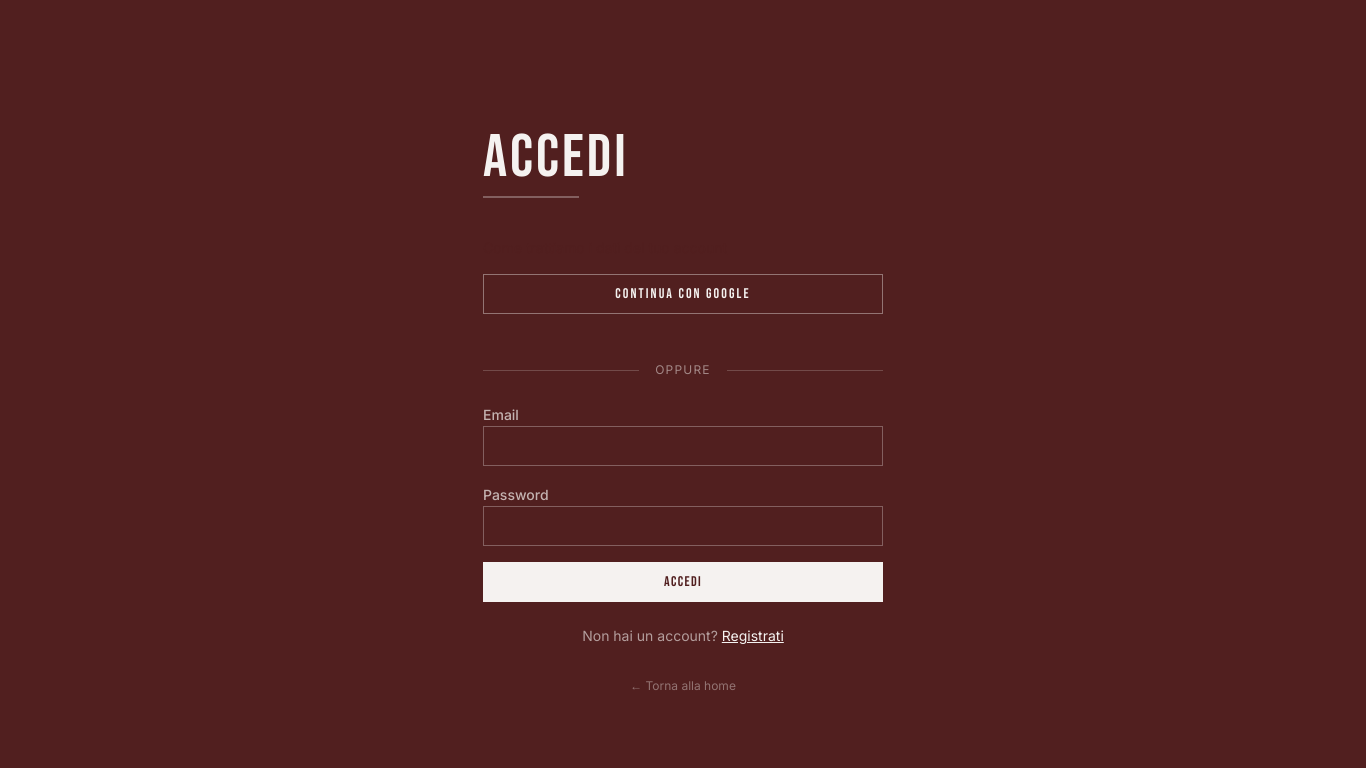
authentication UI with a simulated service › locks the form and mode toggle while a request is pending
This screenshot has width=1366, height=768.
Later steps or results of the test are not shown.
In the field labelled "Email": (683, 446) [483,426,883,466], type "test@example.invalid"
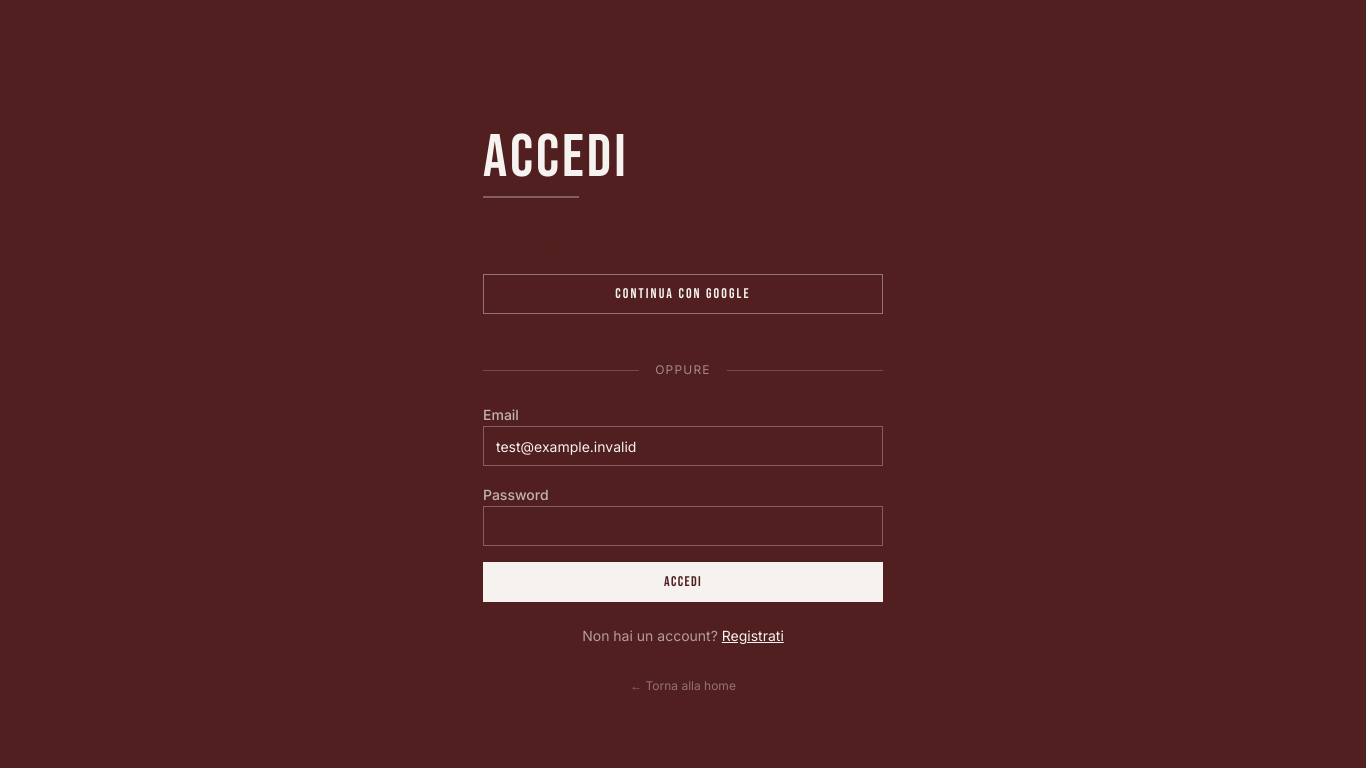
In the password field labelled "Password": (683, 526) [483,506,883,546], type "synthetic-password"
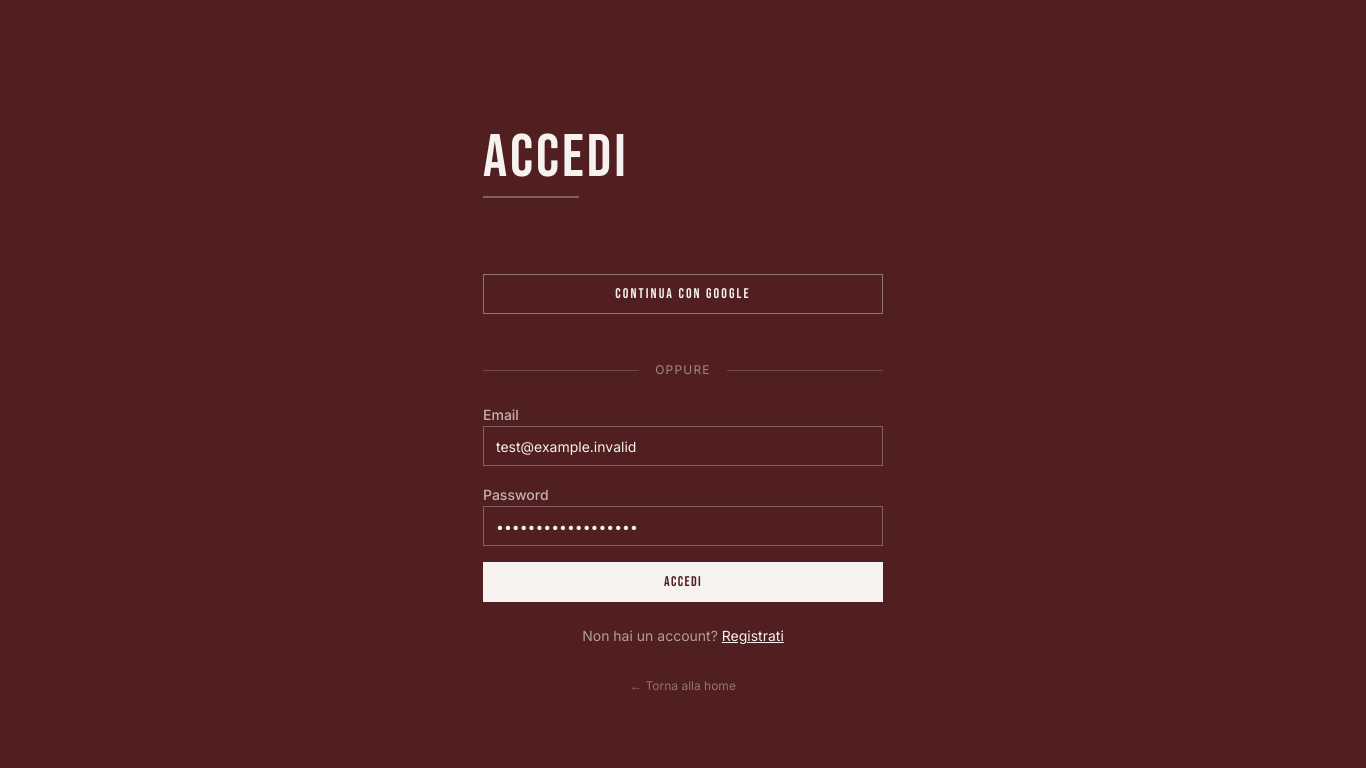
Submit the form "ACCEDI", box [483,402,883,602]
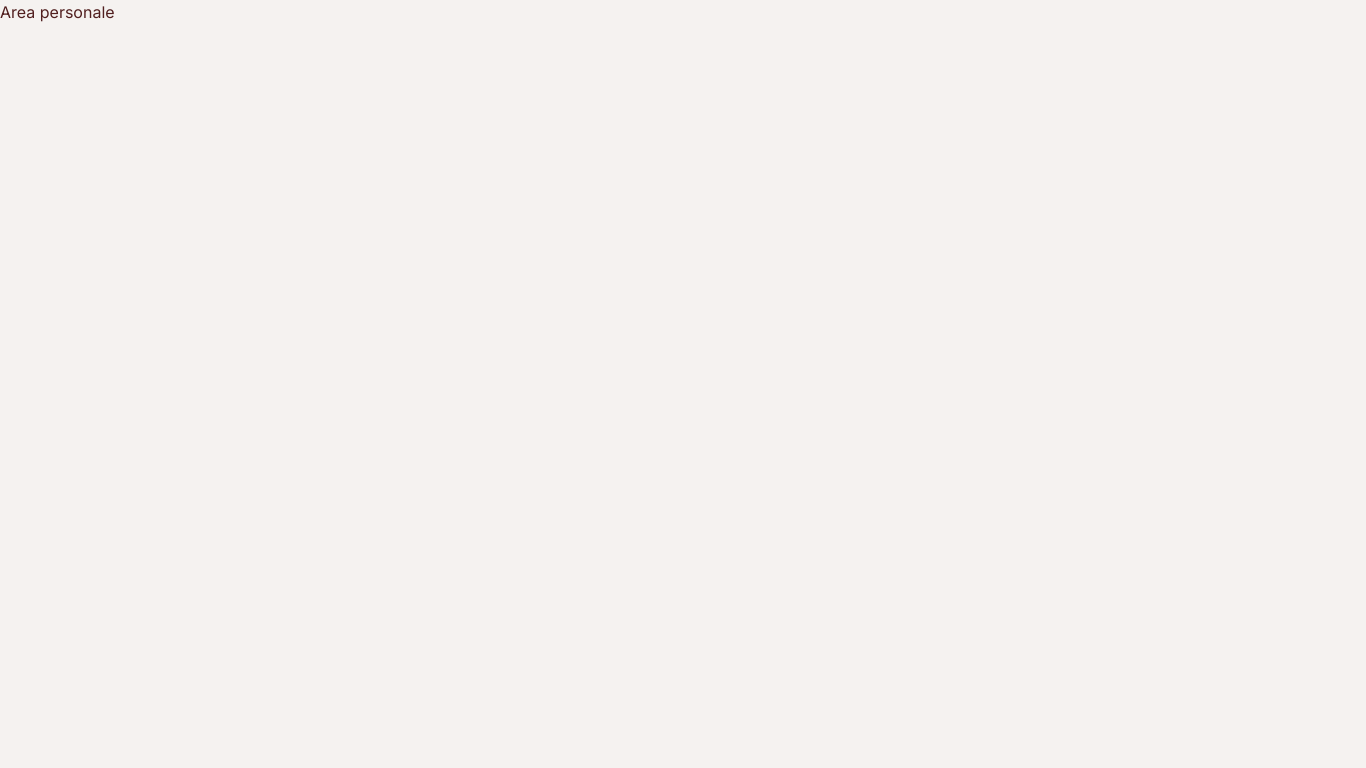
Now the text "Area personale" is shown, box [0,2,115,22]
